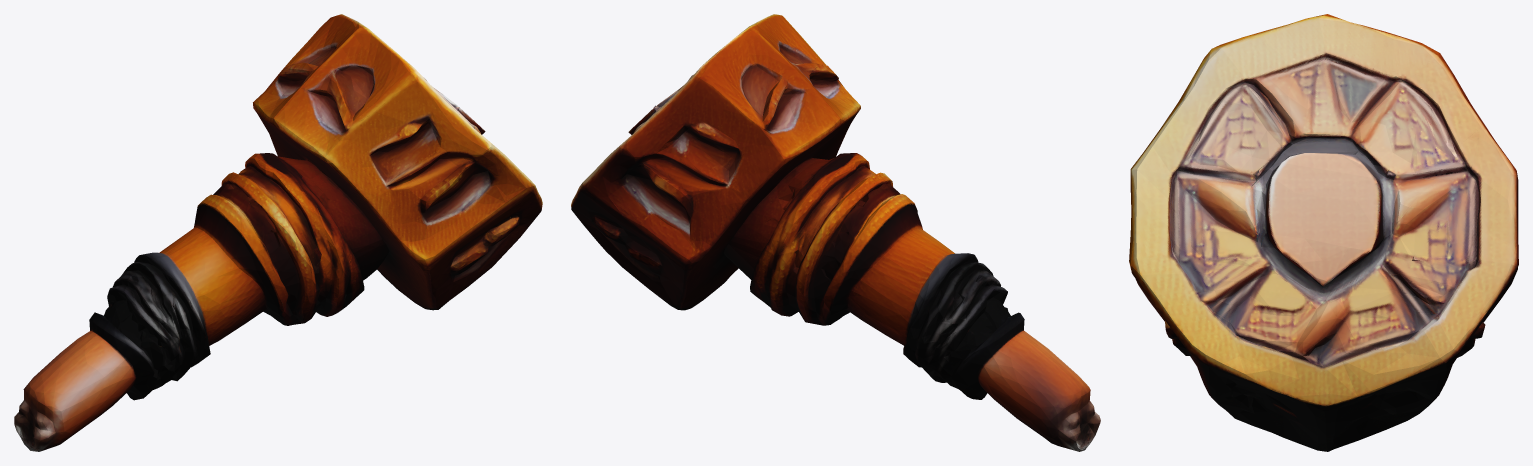
The model's file is wooden-wine-bottle-stopper-art-deco.jpeg.glb.
3 views of the same model, side by side, from view 1: azimuth 30°, elevation 25°; view 2: azimuth 150°, elevation 25°; view 3: azimuth 270°, elevation 25° (orthographic). The views are drawn at different scales.
Visible parts, largest first — view 1: world; view 2: world; view 3: world.
Part boxes in pixels (x1=…): world: x1=14, y1=14, x2=542, y2=451; world: x1=571, y1=14, x2=1100, y2=451; world: x1=1129, y1=14, x2=1518, y2=451.
Size of the model in its own units: 0.9995 by 0.6833 by 0.5081.
Materials: 1 (1 with a texture image).
